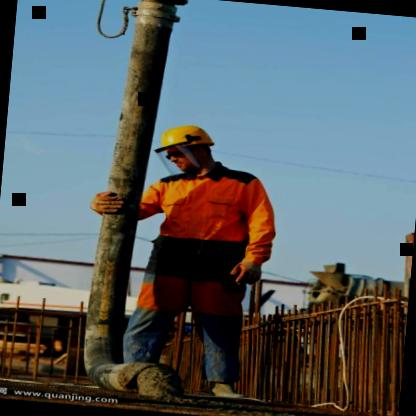helmet: (152, 120, 223, 175)
